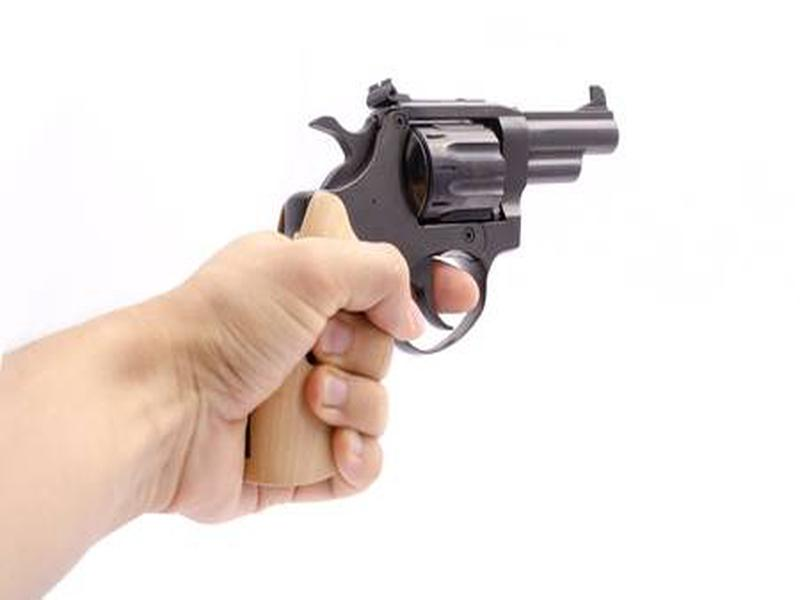Revolver: (265, 65, 628, 324)
